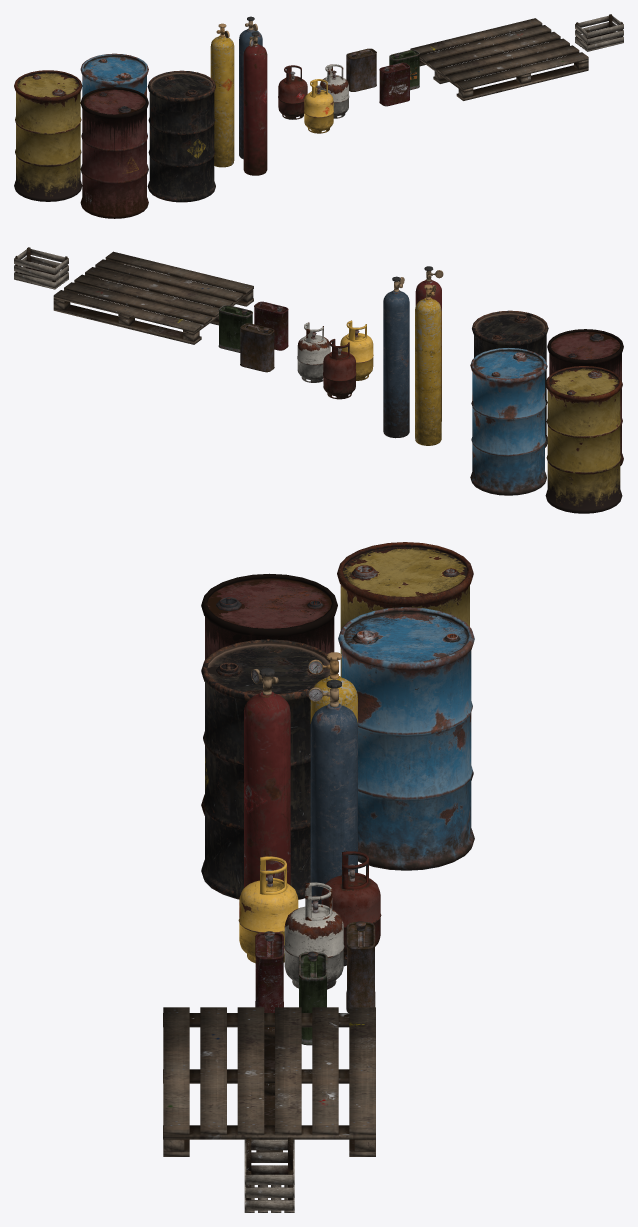
The model's file is model.opt.glb.
The picture shows the model from 3 angles, top to bottom: view 1: azimuth 30°, elevation 25°; view 2: azimuth 150°, elevation 25°; view 3: azimuth 270°, elevation 25°; orthographic projection. The views are drawn at different scales.
Parts seen in each view (by area): view 1: Cube.001_pallet_0, barrel_barrel_0, barrel4_barrel4_0, barrel2_barrel2_0, cylinder_T.G.Cylinder_0, cylinder3_T.G.Cylinder3_0, barrel3_barrel3_0, Cube.002_Wooden Box_0, oil.can_can_0, oil.can3_can3_0, cylinder.small1_cylinder.small1_0, cylinder.small3_cylinder.small3_0 (+3 smaller); view 2: Cube.001_pallet_0, barrel4_barrel4_0, barrel3_barrel3_0, cylinder2_T.G.Cylinder2_0, cylinder3_T.G.Cylinder3_0, barrel_barrel_0, barrel2_barrel2_0, Cube.002_Wooden Box_0, oil.can3_can3_0, cylinder.small3_cylinder.small3_0, cylinder.small2_cylinder.small2_0, oil.can2_can2_0 (+3 smaller); view 3: barrel3_barrel3_0, Cube.001_pallet_0, barrel_barrel_0, barrel4_barrel4_0, barrel2_barrel2_0, cylinder_T.G.Cylinder_0, cylinder2_T.G.Cylinder2_0, Cube.002_Wooden Box_0, cylinder.small2_cylinder.small2_0, cylinder.small1_cylinder.small1_0, cylinder.small3_cylinder.small3_0, oil.can3_can3_0 (+3 smaller).
Part boxes in pixels (x1,y1,x2,y2): Cube.001_pallet_0: (410,18,588,100); barrel_barrel_0: (147,70,215,202); barrel4_barrel4_0: (14,70,82,201); barrel2_barrel2_0: (80,87,148,218); cylinder_T.G.Cylinder_0: (243,44,267,175); cylinder3_T.G.Cylinder3_0: (210,35,234,167); barrel3_barrel3_0: (80,53,148,174); Cube.002_Wooden Box_0: (575,14,623,51); oil.can_can_0: (379,62,409,106); oil.can3_can3_0: (346,48,376,91); cylinder.small1_cylinder.small1_0: (304,91,333,133); cylinder.small3_cylinder.small3_0: (278,77,307,119); Cube.001_pallet_0: (53,251,253,344); barrel4_barrel4_0: (545,366,622,513); barrel3_barrel3_0: (470,348,546,495); cylinder2_T.G.Cylinder2_0: (383,290,409,438); cylinder3_T.G.Cylinder3_0: (415,298,441,445); barrel_barrel_0: (472,310,548,447); barrel2_barrel2_0: (547,329,623,465); Cube.002_Wooden Box_0: (14,247,68,289); oil.can3_can3_0: (240,323,274,372); cylinder.small3_cylinder.small3_0: (323,351,356,399); cylinder.small2_cylinder.small2_0: (297,335,330,382); oil.can2_can2_0: (218,305,252,352); barrel3_barrel3_0: (338,607,474,870); Cube.001_pallet_0: (163,1007,375,1156); barrel_barrel_0: (201,639,330,899); barrel4_barrel4_0: (337,542,473,780); barrel2_barrel2_0: (201,573,337,815); cylinder_T.G.Cylinder_0: (244,691,290,887); cylinder2_T.G.Cylinder2_0: (310,703,357,966); Cube.002_Wooden Box_0: (244,1137,294,1212); cylinder.small2_cylinder.small2_0: (284,906,344,989); cylinder.small1_cylinder.small1_0: (238,880,298,963); cylinder.small3_cylinder.small3_0: (321,875,381,959); oil.can3_can3_0: (346,922,375,1012).
Bounding box in the file's own units: 28.63 × 6.7 × 6.84.
53 materials, 53 textured.
